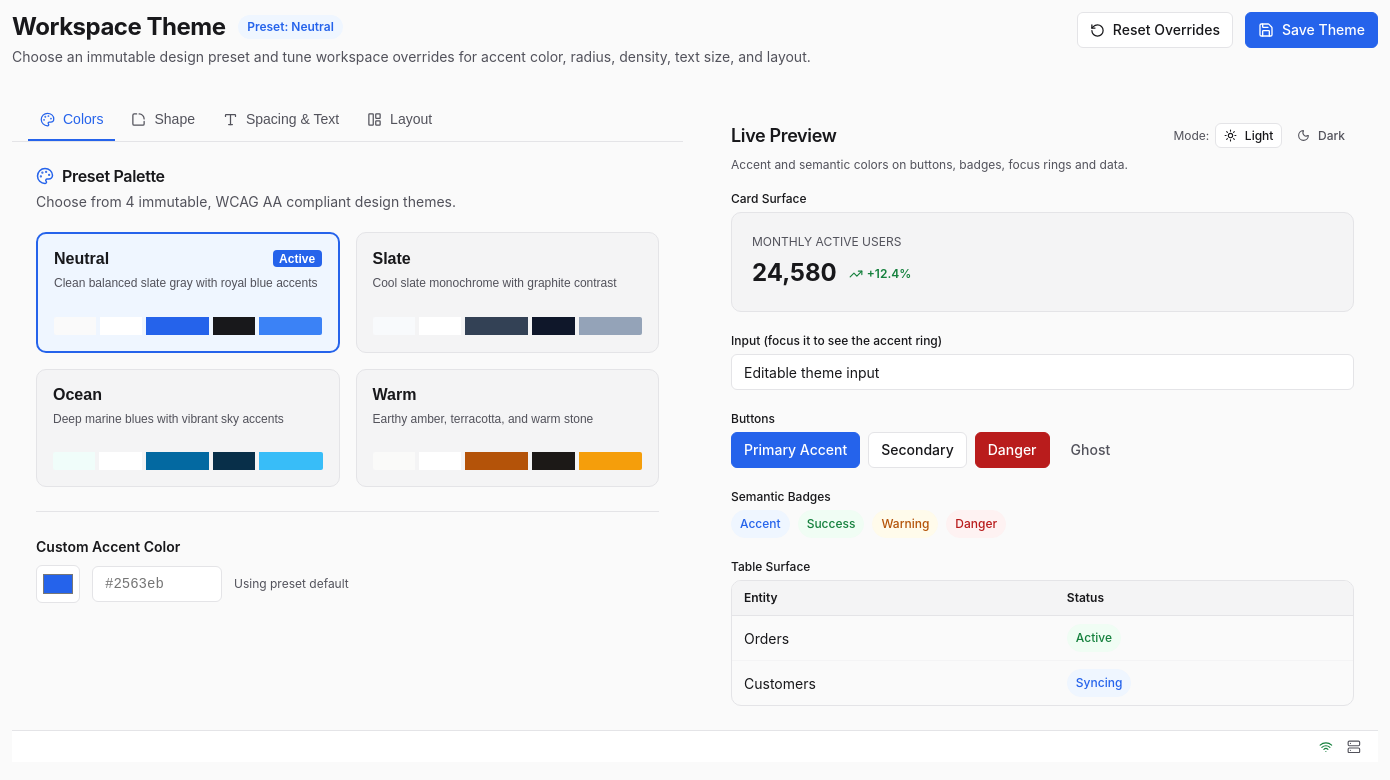
Test: Theme Foundation Unit & Integration Tests › Studio Theme Editor UI (/studio/theme) › reports a theme save in the status bar, not in a banner above the settings
What coordinates should you click on to do the following:
click the button "Save Theme"
I would click on:
 (1312, 30)
Its box is [1245,12,1378,48].
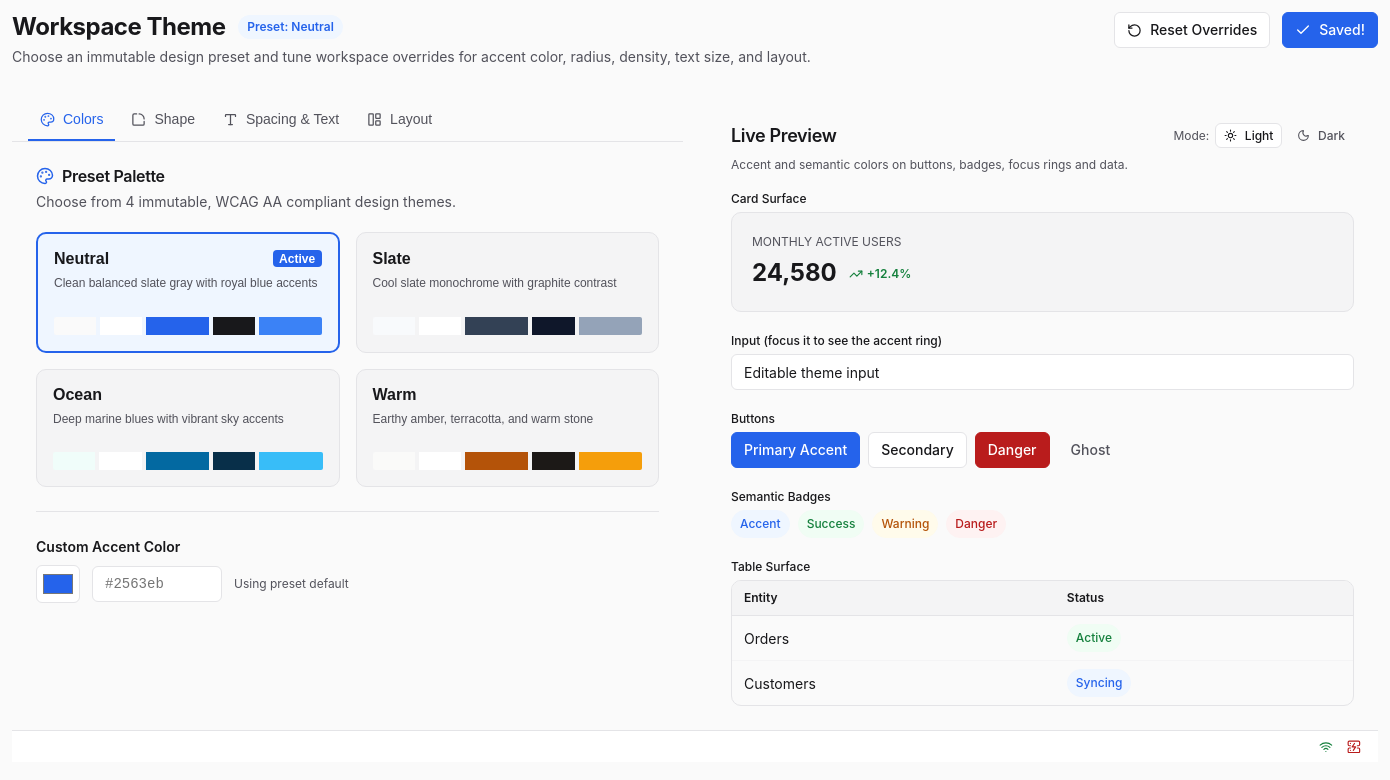
What coordinates should you click on to do the following:
click the button "Save Theme"
I would click on:
 (1330, 30)
Its box is [1282,12,1378,48].
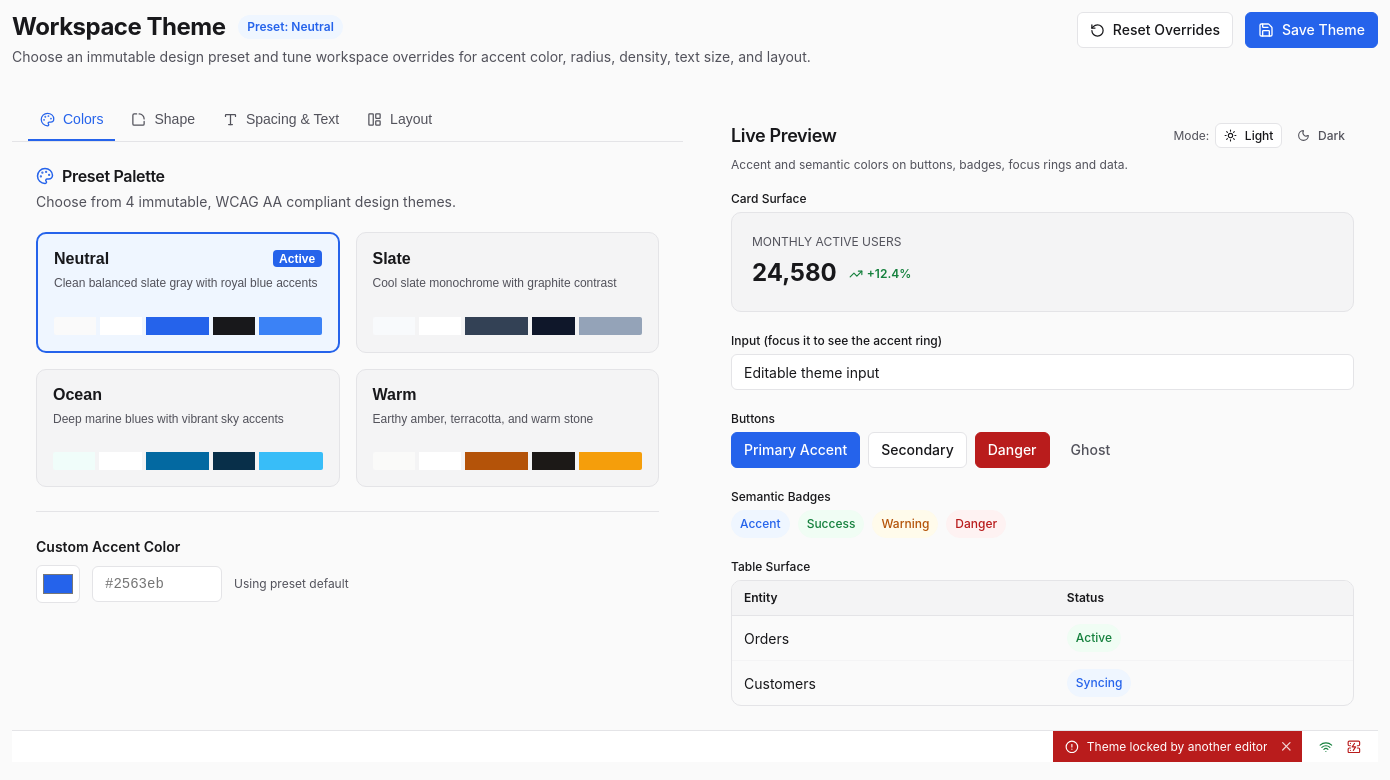
Check: the element with test id "app-status-notification" reads "Theme locked by another editor", box [1087,738,1268,754]
